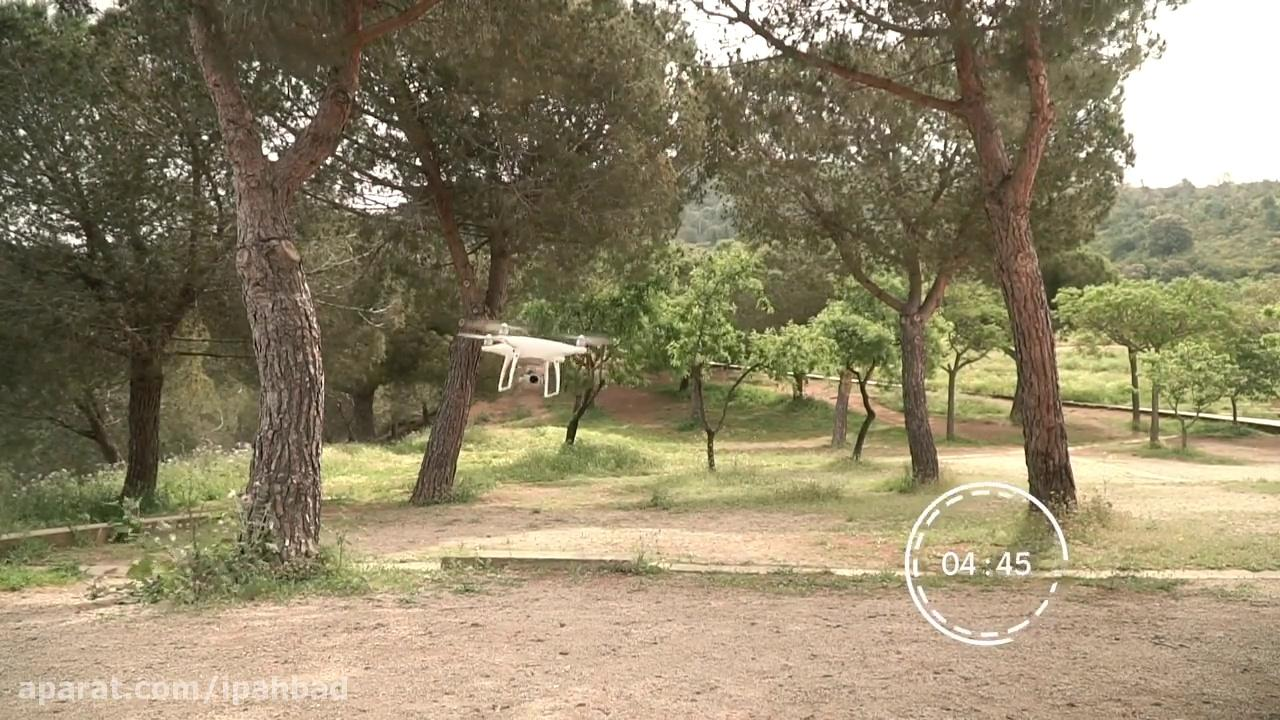drone: (453, 316, 617, 400)
